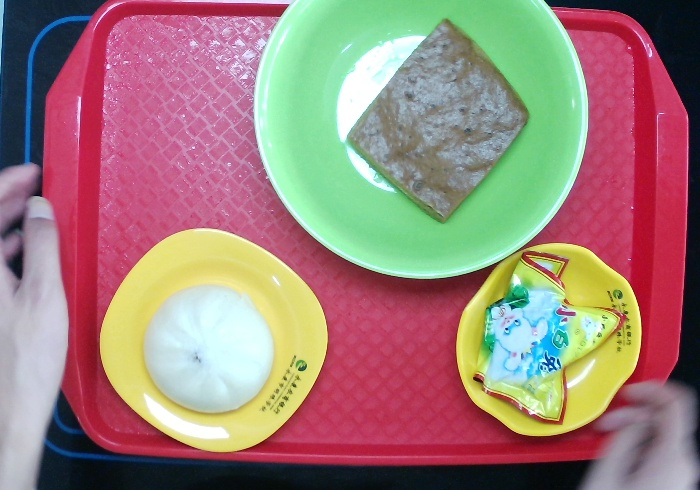YKMZ-Huang_Se_Ao_Bian_Wan: (453, 240, 646, 439)
YKMZ-Huang_Se_Fang_Die: (97, 227, 329, 455)
YKMZ-Lv_Se_Tang_Wan: (251, 1, 591, 284)
